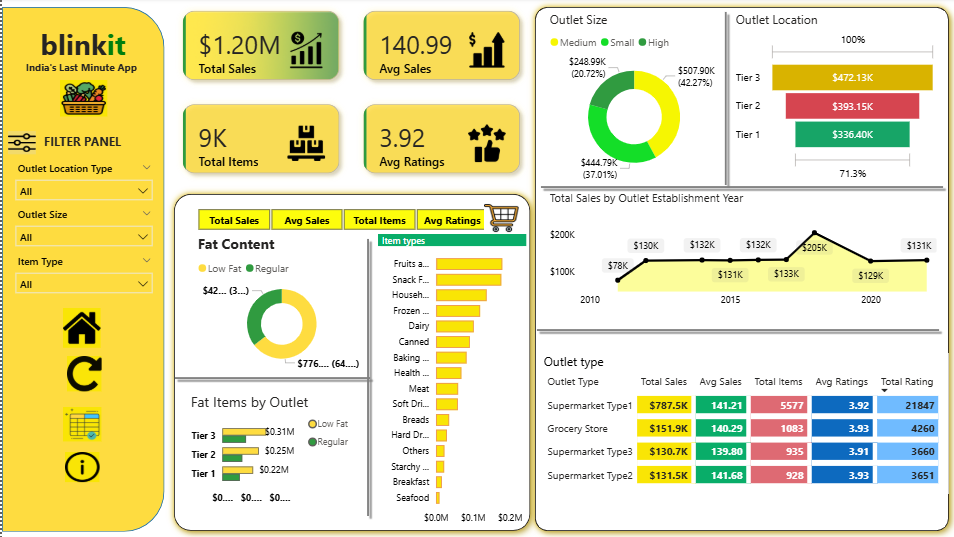

What the dashboard file says about the page in this screenshot:
{"tool":"powerbi","page":{"name":"Dashboard","canvas":[1280,720],"ordinal":0},"visuals":[{"type":"shape","box":[0,11.4,215.7,697.1],"z":0},{"type":"textbox","box":[43.7,30.2,127.7,62.2],"z":1000},{"type":"textbox","box":[26.9,79,161.3,26.9],"z":2000},{"type":"cardVisual","fields":{"Data":["BlinkIT Grocery Data.Total Sales","BlinkIT Grocery Data.Avg Sales","BlinkIT Grocery Data.Total Items","BlinkIT Grocery Data.Avg Ratings"]},"box":[222.9,0,482.9,251.4],"z":3000},{"type":"shape","box":[217.1,248.6,497.1,471.4],"z":4000},{"type":"slicer","fields":{"Values":["Parameter.Parameter"]},"box":[235.7,274.3,434.3,38.6],"z":5000},{"type":"donutChart","title":"Fat Content","fields":{"Category":["BlinkIT Grocery Data.Item Fat Content"],"Y":["BlinkIT Grocery Data.Total Sales"]},"box":[254.6,313.3,233.2,185.1],"z":6000},{"type":"clusteredBarChart","title":"Fat Items by Outlet","fields":{"Y":["BlinkIT Grocery Data.Total Sales"],"Series":["BlinkIT Grocery Data.Item Fat Content"],"Category":["BlinkIT Grocery Data.Outlet Location Type"]},"box":[245.7,523.4,227.9,158.4],"z":7000},{"type":"barChart","title":"Item types","fields":{"Y":["BlinkIT Grocery Data.Total Sales","BlinkIT Grocery Data.Avg Sales","BlinkIT Grocery Data.Total Items","BlinkIT Grocery Data.Avg Ratings"],"Category":["BlinkIT Grocery Data.Item Type"]},"box":[500,312.9,197.1,395.7],"z":8000},{"type":"shape","box":[222.5,478.9,272.4,53.4],"z":9000},{"type":"shape","box":[473.5,313.3,26.7,381],"z":10000},{"type":"shape","box":[696.6,0,573.7,720],"z":11000},{"type":"donutChart","title":"Outlet Size","fields":{"Category":["BlinkIT Grocery Data.Outlet Size"],"Y":["BlinkIT Grocery Data.Total Sales"]},"box":[722.9,17.6,234.1,231.2],"z":12000},{"type":"funnel","title":"Outlet Location","fields":{"Category":["BlinkIT Grocery Data.Outlet Location Type"],"Y":["BlinkIT Grocery Data.Total Sales"]},"box":[970.2,17.6,276.6,231.2],"z":13000},{"type":"lineChart","fields":{"Category":["BlinkIT Grocery Data.Outlet Establishment Year"],"Y":["BlinkIT Grocery Data.Total Sales"]},"box":[722.9,254.6,523.9,163.9],"z":14000},{"type":"pivotTable","title":"Outlet type","fields":{"Values":["BlinkIT Grocery Data.Total Sales","BlinkIT Grocery Data.Avg Sales","BlinkIT Grocery Data.Total Items","BlinkIT Grocery Data.Avg Ratings","Sum(BlinkIT Grocery Data.Rating)"],"Rows":["BlinkIT Grocery Data.Outlet Type"]},"box":[714.3,471.4,542.9,187.1],"z":15000},{"type":"shape","box":[703.9,418.5,547.3,45.4],"z":16000},{"type":"shape","box":[709.8,228.3,547.3,45.4],"z":17000},{"type":"shape","box":[943.9,11.7,33.7,242.9],"z":18000},{"type":"slicer","fields":{"Values":["BlinkIT Grocery Data.Outlet Location Type"]},"box":[7.3,212.2,202,61.5],"z":19000},{"type":"slicer","fields":{"Values":["BlinkIT Grocery Data.Outlet Size"]},"box":[7.3,273.7,202,61.5],"z":20000},{"type":"slicer","fields":{"Values":["BlinkIT Grocery Data.Item Type"]},"box":[7.3,336.6,202,61.5],"z":21000},{"type":"textbox","box":[26.3,174.1,161,38],"z":22000},{"type":"actionButton","box":[81.4,411.4,50,52.9],"z":23000},{"type":"actionButton","box":[85.7,475.7,45.7,47.1],"z":24000},{"type":"actionButton","box":[84.3,602.9,45.7,40],"z":25000},{"type":"actionButton","box":[81.4,542.9,51.4,45.7],"z":26000},{"type":"actionButton","box":[8.6,177.1,37.1,31.4],"z":26001},{"type":"actionButton","box":[640,272.9,45.7,40],"z":26002},{"type":"actionButton","box":[77.1,108.6,62.9,48.6],"z":26003}]}

Visuals, with their boxes in screenshot pixels (x1, y1, x2, y2), scaled from the page's 1280x720 canvas onto the 954x537 screenshot:
shape: (0, 9, 161, 528)
textbox: (33, 23, 128, 69)
textbox: (20, 59, 140, 79)
cardVisual - BlinkIT Grocery Data.Total Sales x BlinkIT Grocery Data.Avg Sales: (166, 0, 526, 188)
shape: (162, 185, 532, 536)
slicer - Parameter.Parameter: (176, 205, 499, 233)
"Fat Content" donutChart: (190, 234, 364, 372)
"Fat Items by Outlet" clusteredBarChart: (183, 390, 353, 509)
"Item types" barChart: (373, 233, 520, 528)
shape: (166, 357, 369, 397)
shape: (353, 234, 373, 518)
shape: (519, 0, 947, 536)
"Outlet Size" donutChart: (539, 13, 713, 186)
"Outlet Location" funnel: (723, 13, 929, 186)
lineChart - BlinkIT Grocery Data.Outlet Establishment Year x BlinkIT Grocery Data.Total Sales: (539, 190, 929, 312)
"Outlet type" pivotTable: (532, 352, 937, 491)
shape: (525, 312, 933, 346)
shape: (529, 170, 937, 204)
shape: (704, 9, 729, 190)
slicer - BlinkIT Grocery Data.Outlet Location Type: (5, 158, 156, 204)
slicer - BlinkIT Grocery Data.Outlet Size: (5, 204, 156, 250)
slicer - BlinkIT Grocery Data.Item Type: (5, 251, 156, 297)
textbox: (20, 130, 140, 158)
actionButton: (61, 307, 98, 346)
actionButton: (64, 355, 98, 390)
actionButton: (63, 450, 97, 479)
actionButton: (61, 405, 99, 439)
actionButton: (6, 132, 34, 156)
actionButton: (477, 204, 511, 233)
actionButton: (57, 81, 104, 117)
